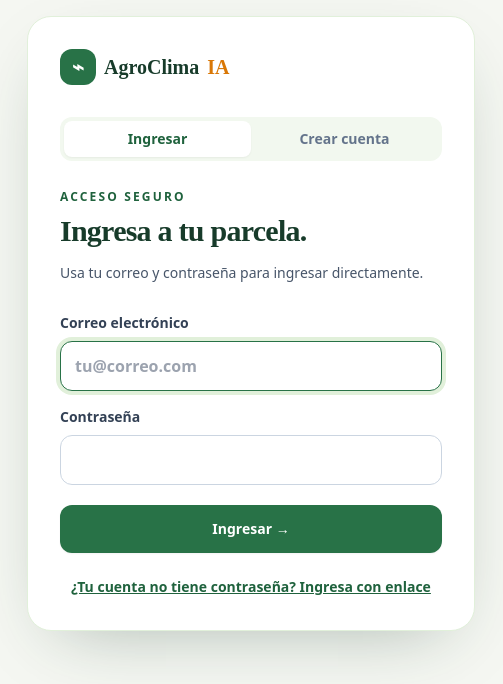
Login › mantiene enlace mágico para cuentas antiguas sin crear usuarios
Click the button "¿Tu cuenta no tiene contraseña? Ingresa con enlace" at (251, 586), box [60,576,442,596]
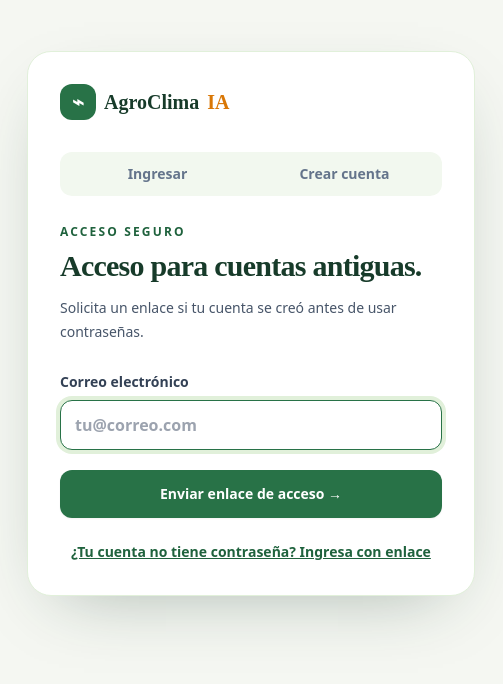
Type "anterior@oxitech.dev" into the field labelled "Correo electrónico" at (251, 424), box [60,400,442,450]
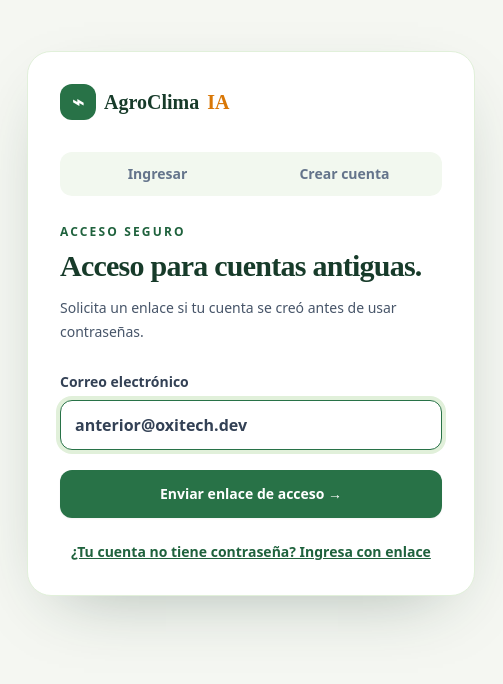
Click the button "Enviar enlace de acceso →" at (251, 494), box [60,470,442,518]
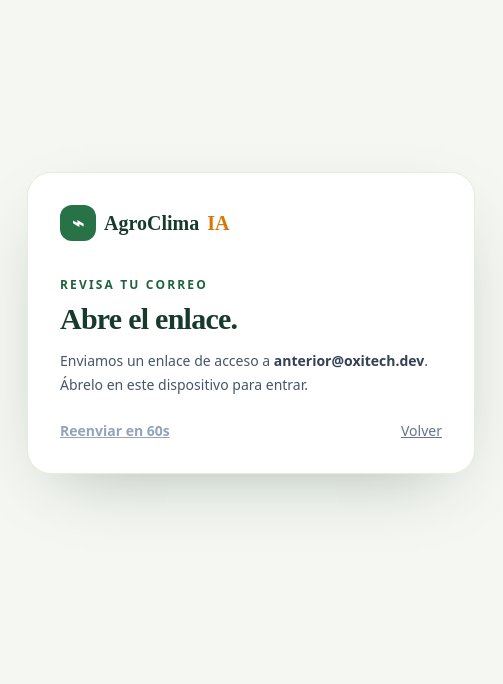
Expected: the heading "Abre el enlace." is shown, [60,302,237,335]
